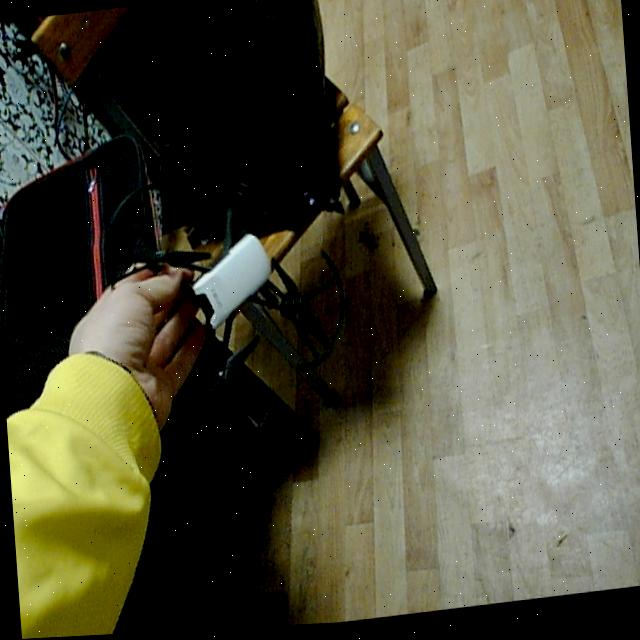drone: (98, 143, 365, 447)
